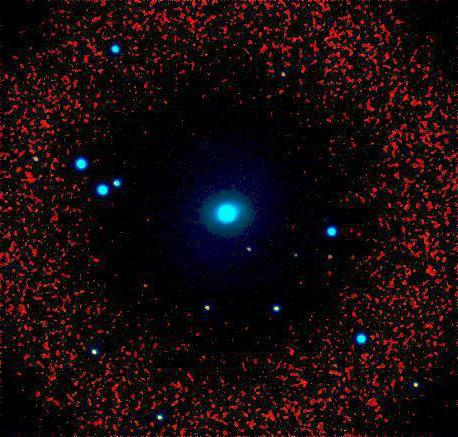star: (130, 271, 160, 301)
